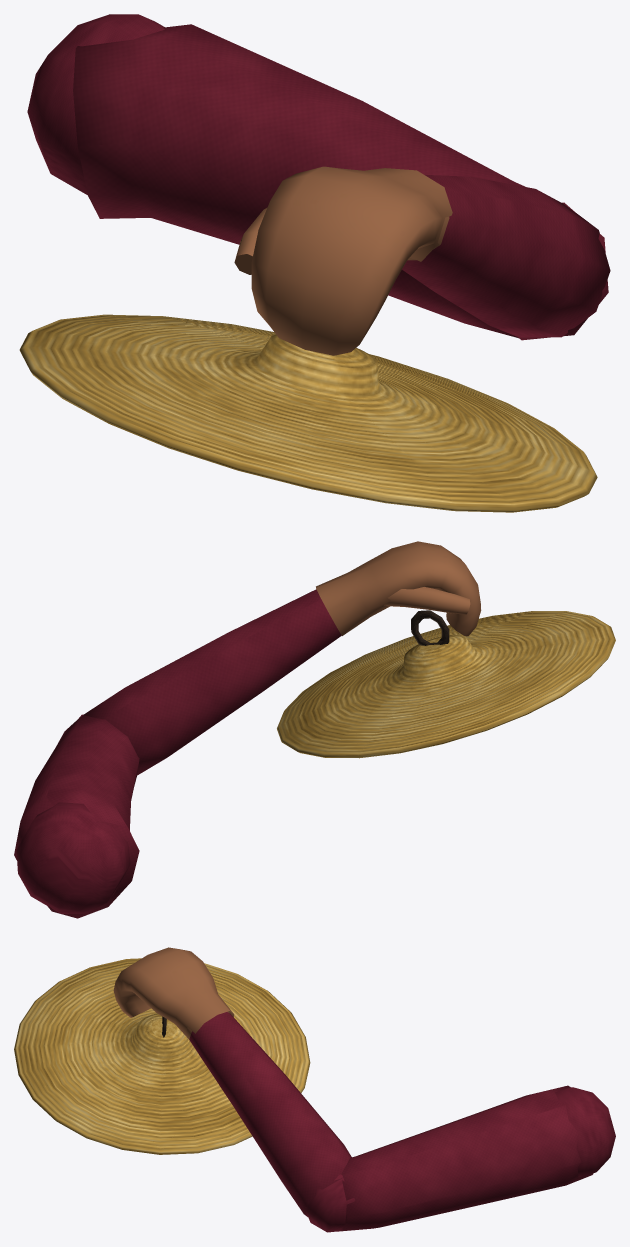
Rendered from brazoizq.obj.
The picture shows the model from 3 angles, top to bottom: view 1: azimuth 30°, elevation 25°; view 2: azimuth 150°, elevation 25°; view 3: azimuth 270°, elevation 25°; orthographic projection. The views are drawn at different scales.
Visible parts, largest first — view 1: tambora_PlatilloMano, tambora_BrazoIzq, tambora_ManoIzq, tambora_AntebrazoIzq, tambora_HombroIzq; view 2: tambora_PlatilloMano, tambora_AntebrazoIzq, tambora_ManoIzq, tambora_BrazoIzq, tambora_HombroIzq; view 3: tambora_PlatilloMano, tambora_BrazoIzq, tambora_AntebrazoIzq, tambora_ManoIzq, tambora_HombroIzq, tambora_CodoIzq.
Part boxes in pixels (bbox=[...]): tambora_PlatilloMano: bbox=[19, 314, 597, 512]; tambora_BrazoIzq: bbox=[73, 24, 525, 338]; tambora_ManoIzq: bbox=[234, 166, 452, 355]; tambora_AntebrazoIzq: bbox=[400, 174, 610, 337]; tambora_HombroIzq: bbox=[27, 14, 164, 194]; tambora_PlatilloMano: bbox=[277, 610, 615, 758]; tambora_AntebrazoIzq: bbox=[79, 575, 347, 775]; tambora_ManoIzq: bbox=[316, 541, 481, 636]; tambora_BrazoIzq: bbox=[14, 715, 139, 918]; tambora_HombroIzq: bbox=[16, 802, 130, 913]; tambora_PlatilloMano: bbox=[14, 958, 310, 1154]; tambora_BrazoIzq: bbox=[338, 1085, 593, 1231]; tambora_AntebrazoIzq: bbox=[185, 998, 351, 1216]; tambora_ManoIzq: bbox=[113, 947, 234, 1037]; tambora_HombroIzq: bbox=[555, 1087, 615, 1177]; tambora_CodoIzq: bbox=[305, 1174, 354, 1232].
Size of the model in its own units: 0.4229 by 0.2112 by 0.6167.
Materials: 4 (4 with a texture image).
